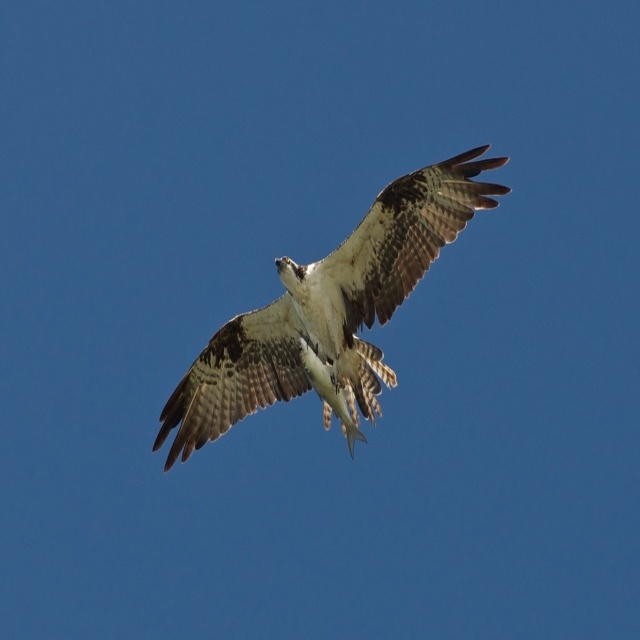Eagle: (152, 144, 512, 474)
